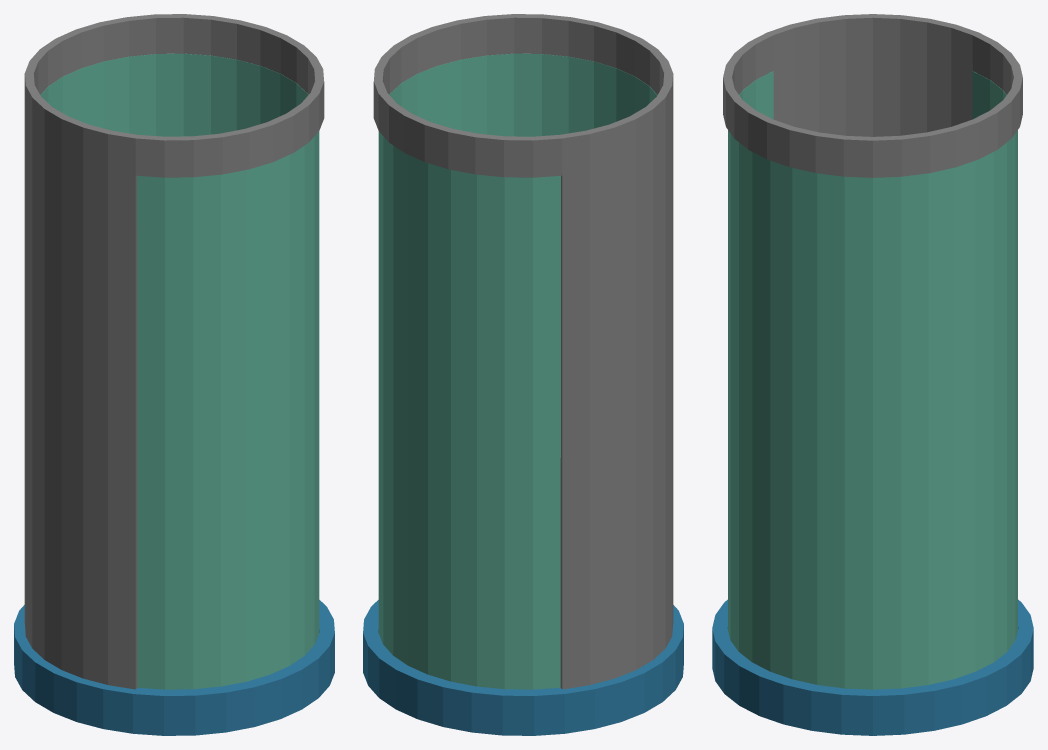
File: SPAWN_F.fbx
The picture shows the model from 3 angles, left to right: view 1: azimuth 30°, elevation 25°; view 2: azimuth 150°, elevation 25°; view 3: azimuth 270°, elevation 25°; orthographic projection.
Visible parts, largest first — view 1: Cylinder.001; view 2: Cylinder.001; view 3: Cylinder.001.
Part boxes in pixels (box(x1,y1,x2,y2)): Cylinder.001: box(14, 14, 334, 735); Cylinder.001: box(363, 14, 683, 735); Cylinder.001: box(712, 14, 1033, 735).
Size of the model in its own units: 4945 by 10024 by 4945.
1 material, 1 textured.
